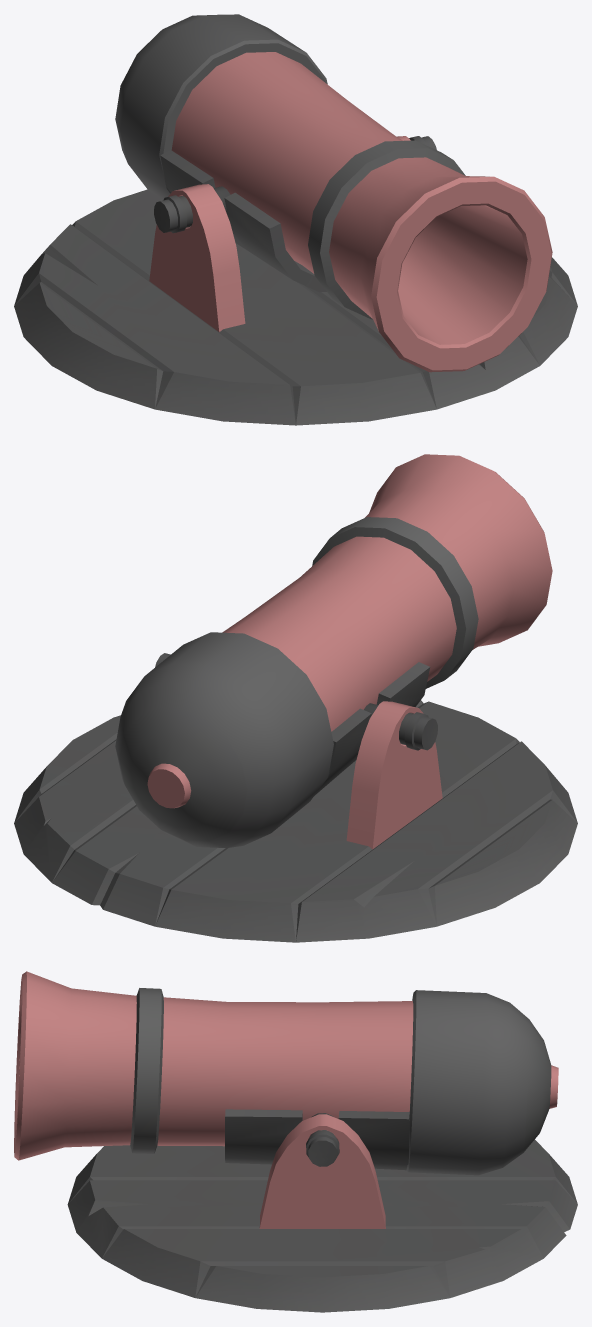
Rendered from Turret1.fbx.
3 views of the same model, one above another, from view 1: azimuth 30°, elevation 25°; view 2: azimuth 150°, elevation 25°; view 3: azimuth 270°, elevation 25° (orthographic). The views are drawn at different scales.
Visible parts, largest first — view 1: Turret, Turret Floor, Gaurds, TurretHolder, Torret Hinge; view 2: Turret, Turret Floor, Gaurds, TurretHolder, Torret Hinge; view 3: Turret, Turret Floor, Gaurds, TurretHolder, Torret Hinge.
Part boxes in pixels (left/top/right/bottom): Turret: left=115, top=14, right=552, bottom=372; Turret Floor: left=14, top=189, right=577, bottom=425; Gaurds: left=149, top=136, right=410, bottom=332; TurretHolder: left=160, top=150, right=326, bottom=292; Torret Hinge: left=154, top=136, right=436, bottom=233; Turret: left=115, top=454, right=552, bottom=847; Turret Floor: left=14, top=700, right=577, bottom=942; Gaurds: left=346, top=701, right=442, bottom=849; TurretHolder: left=314, top=662, right=430, bottom=795; Torret Hinge: left=155, top=653, right=437, bottom=750; Turret: left=14, top=971, right=558, bottom=1175; Turret Floor: left=67, top=1139, right=577, bottom=1312; Gaurds: left=259, top=1114, right=385, bottom=1228; TurretHolder: left=225, top=1109, right=409, bottom=1170; Torret Hinge: left=306, top=1113, right=339, bottom=1166.
Bounding box in the file's own units: 2.2 × 1.07 × 2.43.
